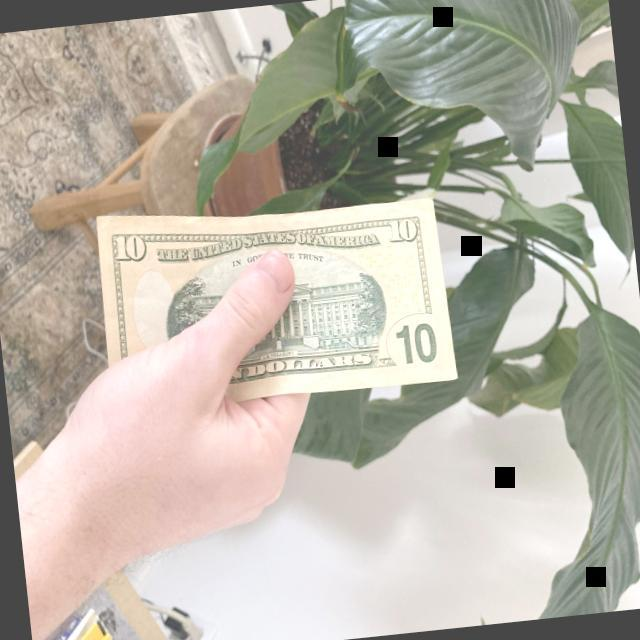ten: (92, 179, 460, 423)
